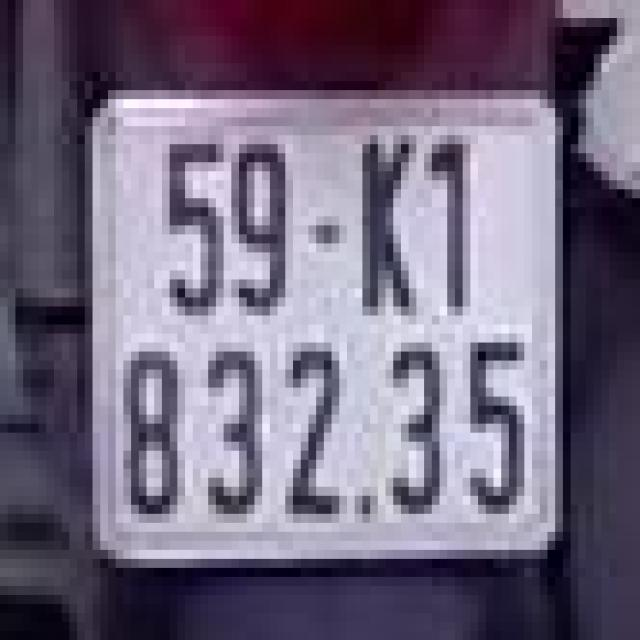1: (432, 122, 478, 320)
2: (278, 329, 347, 527)
3: (196, 333, 274, 532), (389, 342, 444, 523)
5: (154, 117, 232, 325), (467, 333, 528, 523)
8: (112, 333, 189, 523)
9: (228, 131, 304, 320)
K: (339, 117, 432, 325)
